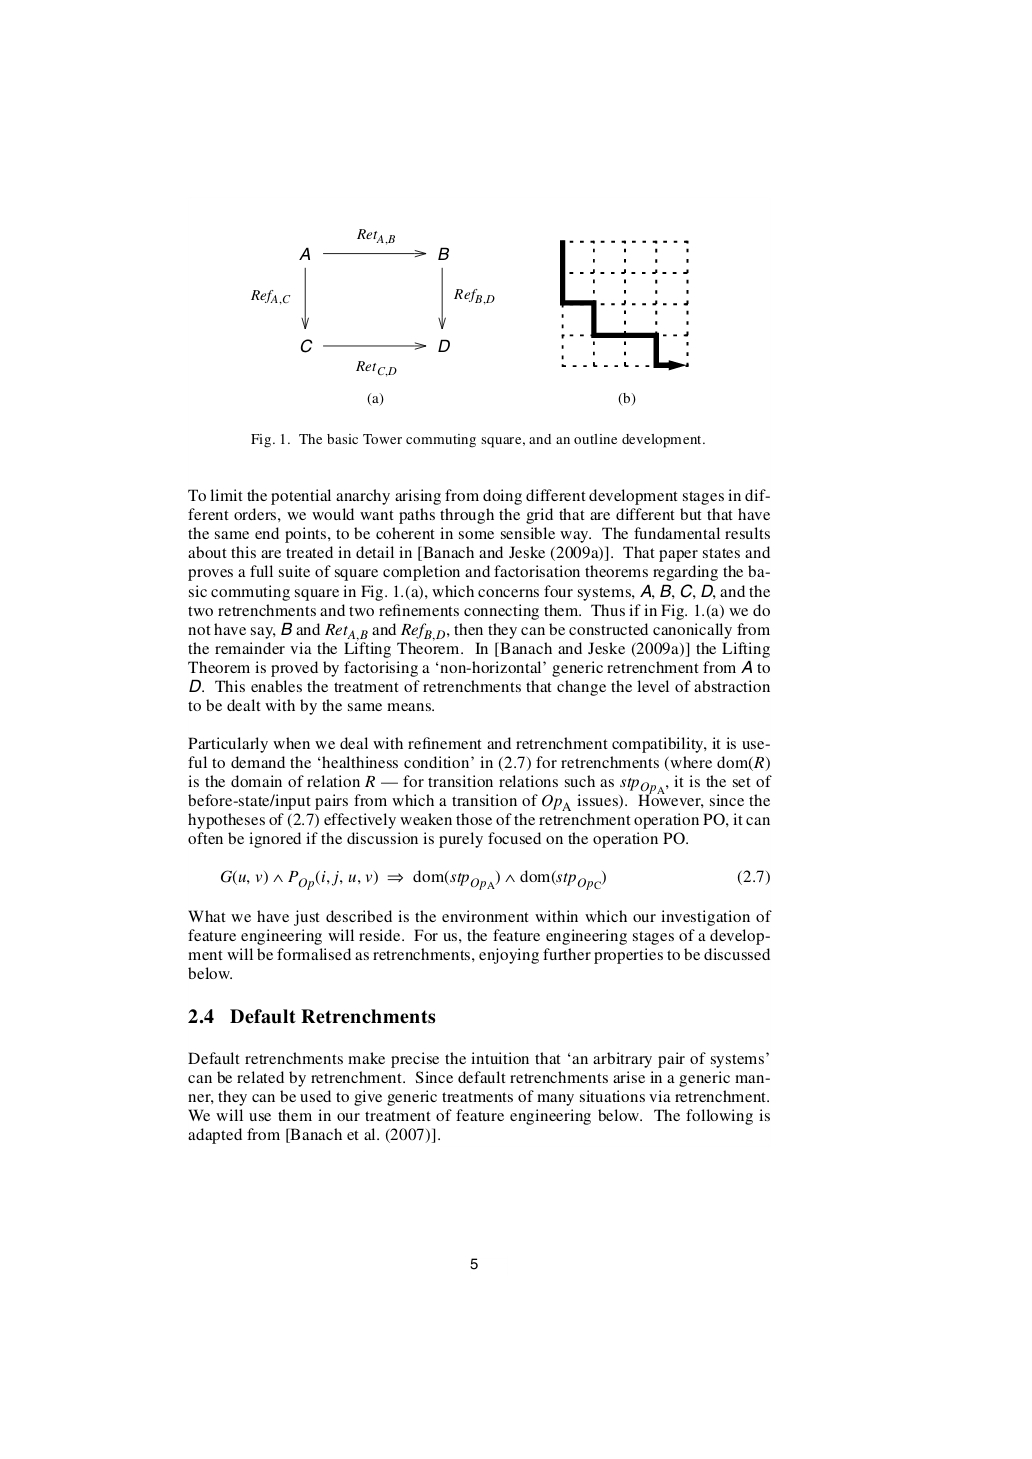figure: (251, 229, 494, 376), (560, 240, 688, 369)
formula: (220, 868, 770, 890)
